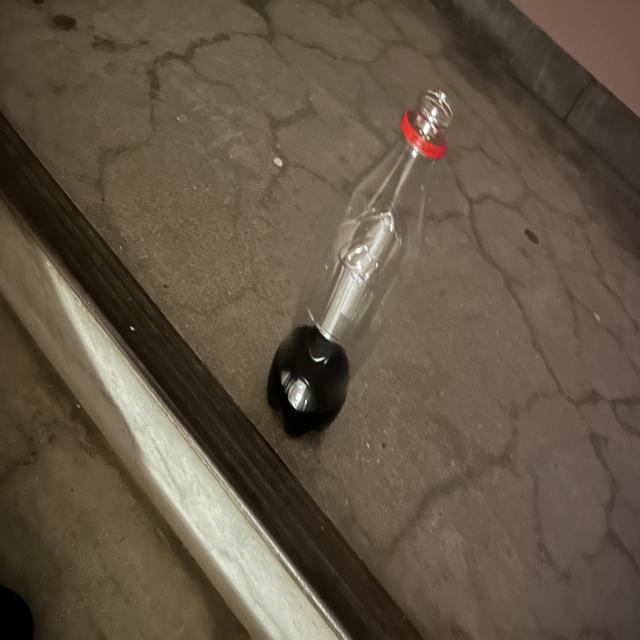low: (267, 90, 452, 435)
